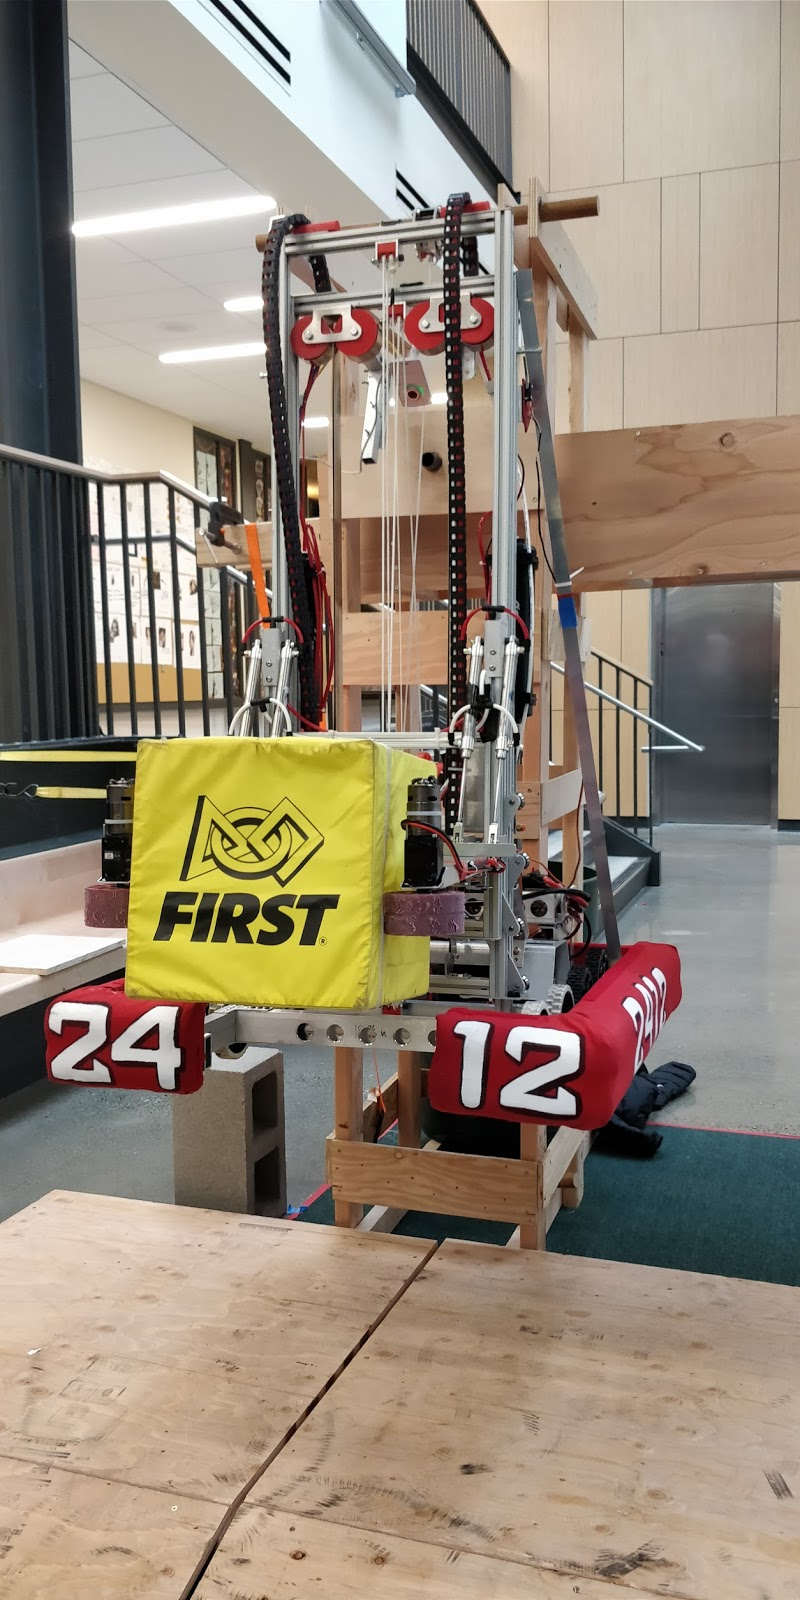cube: (127, 738, 438, 1007)
